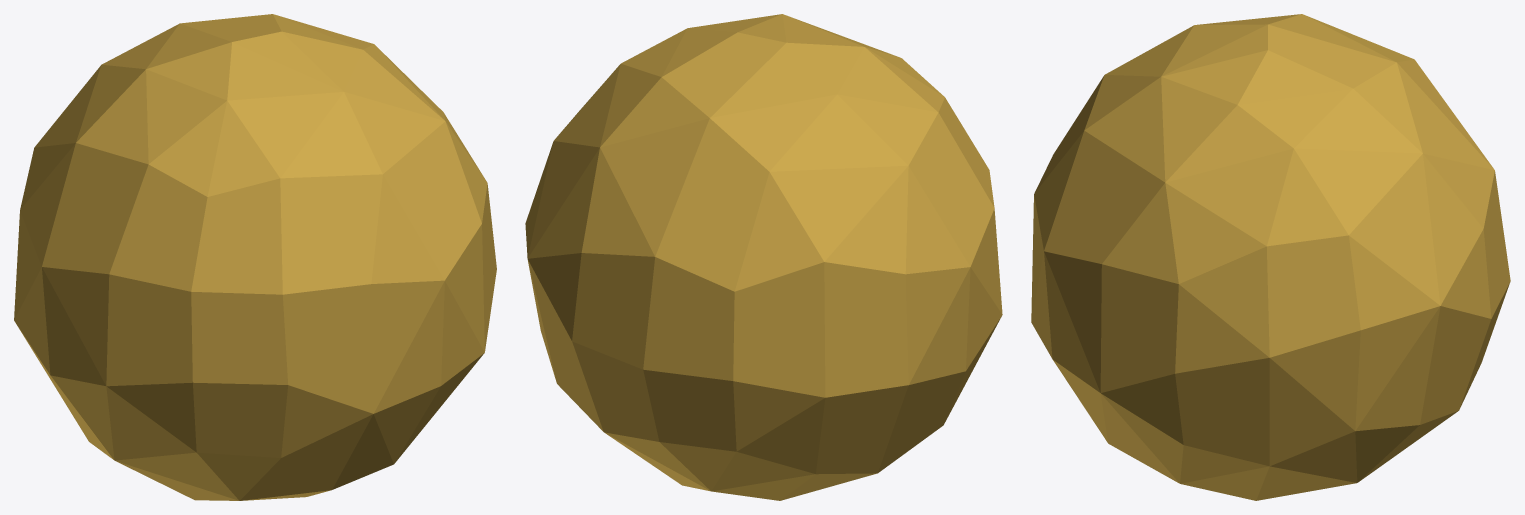
The model's file is Hamster Ball.fbx.
3 renders of one model, left to right at view 1: azimuth 30°, elevation 25°; view 2: azimuth 150°, elevation 25°; view 3: azimuth 270°, elevation 25°, orthographic.
Parts seen in each view (by area): view 1: Hamster Ball; view 2: Hamster Ball; view 3: Hamster Ball.
Boxes of the visible parts, box(x1,y1,x2,y2) form: Hamster Ball: box(14, 14, 496, 500); Hamster Ball: box(525, 14, 1002, 500); Hamster Ball: box(1031, 14, 1510, 500).
Size of the model in its own units: 170 by 171 by 168.
